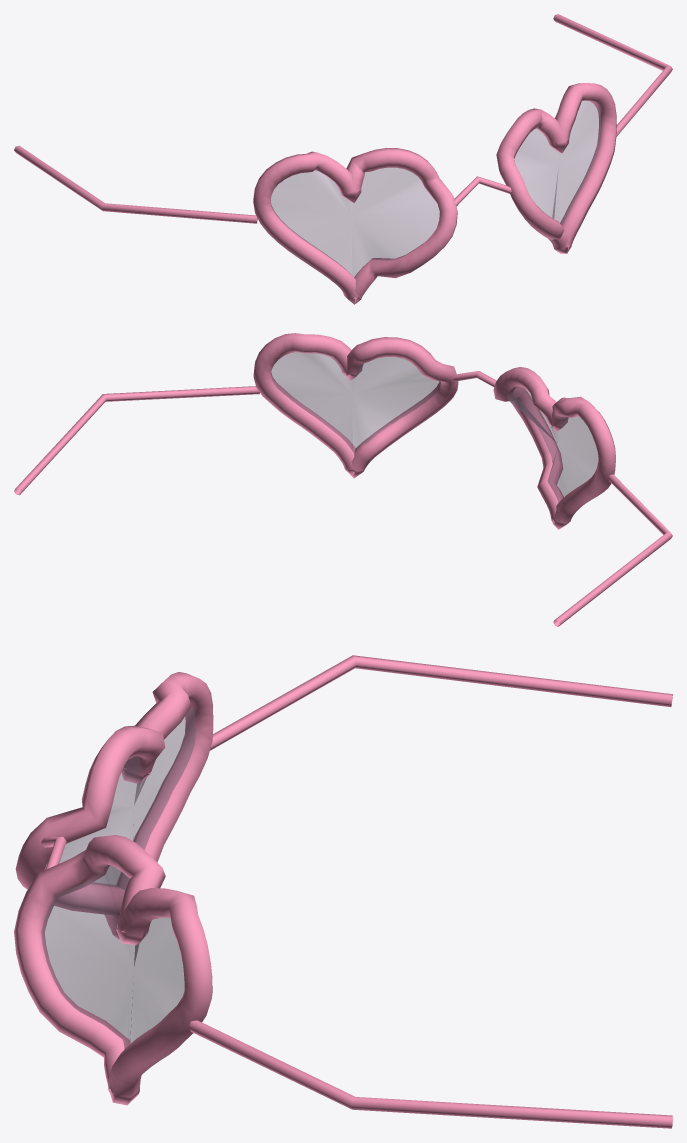
The model's file is glasses_heart_bear_tailored.glb.
3 renders of one model, top to bottom at view 1: azimuth 30°, elevation 25°; view 2: azimuth 150°, elevation 25°; view 3: azimuth 270°, elevation 25°, orthographic. The views are drawn at different scales.
Visible parts, largest first — view 1: Lente ahumada.004, Montura.006, Montura.007, Lente ahumada.005, Patilla curva.006, Patilla curva.007, Puente nasal.003; view 2: Montura.007, Lente ahumada.005, Montura.006, Lente ahumada.004, Patilla curva.007, Patilla curva.006; view 3: Montura.007, Montura.006, Lente ahumada.005, Patilla curva.007, Patilla curva.006, Lente ahumada.004.
Boxes of the visible parts, <box> form: Lente ahumada.004: <box>271,167,439,277</box>; Montura.006: <box>253,148,457,304</box>; Montura.007: <box>496,83,616,253</box>; Lente ahumada.005: <box>514,100,600,224</box>; Patilla curva.006: <box>14,145,257,223</box>; Patilla curva.007: <box>553,14,672,136</box>; Puente nasal.003: <box>454,176,511,206</box>; Montura.007: <box>253,333,458,478</box>; Lente ahumada.005: <box>271,352,440,453</box>; Montura.006: <box>493,367,615,529</box>; Lente ahumada.004: <box>507,386,598,502</box>; Patilla curva.007: <box>14,386,259,495</box>; Patilla curva.006: <box>553,474,672,626</box>; Montura.007: <box>14,835,212,1105</box>; Montura.006: <box>15,672,213,939</box>; Lente ahumada.005: <box>41,865,184,1048</box>; Patilla curva.007: <box>188,1020,672,1128</box>; Patilla curva.006: <box>210,655,672,750</box>; Lente ahumada.004: <box>59,707,195,889</box>.
Size of the model in its own units: 0.7972 by 0.1981 by 0.497.
